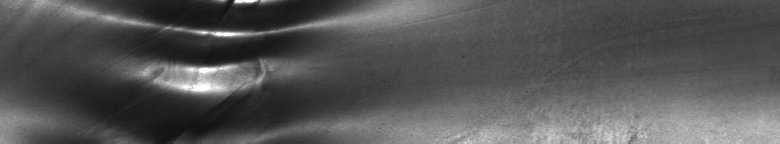ke: (34, 4, 368, 136)
